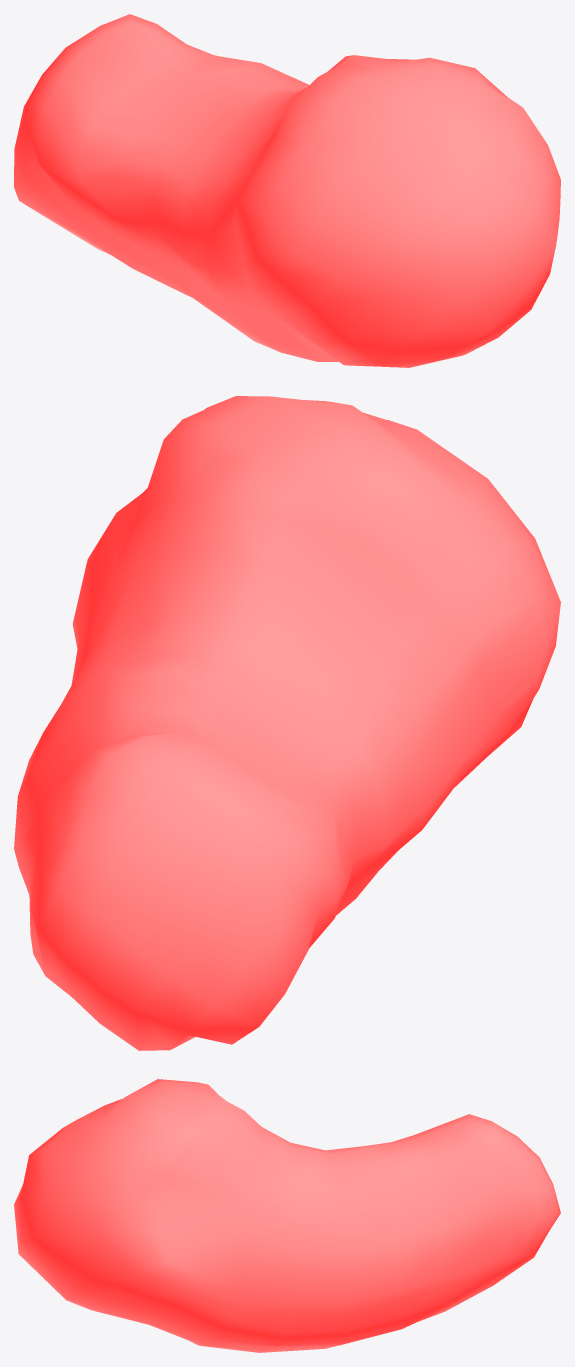
The model's file is Mitochondrion.FBX.
The picture shows the model from 3 angles, top to bottom: view 1: azimuth 30°, elevation 25°; view 2: azimuth 150°, elevation 25°; view 3: azimuth 270°, elevation 25°; orthographic projection. The views are drawn at different scales.
Parts seen in each view (by area): view 1: MitochondrionOuterMembrane_00; view 2: MitochondrionOuterMembrane_00; view 3: MitochondrionOuterMembrane_00.
Part boxes in pixels (<box>): MitochondrionOuterMembrane_00: <box>14,14,560,367</box>; MitochondrionOuterMembrane_00: <box>14,396,560,1050</box>; MitochondrionOuterMembrane_00: <box>14,1079,560,1352</box>.
Bounding box in the file's own units: 9.29 × 8.44 × 15.85.
